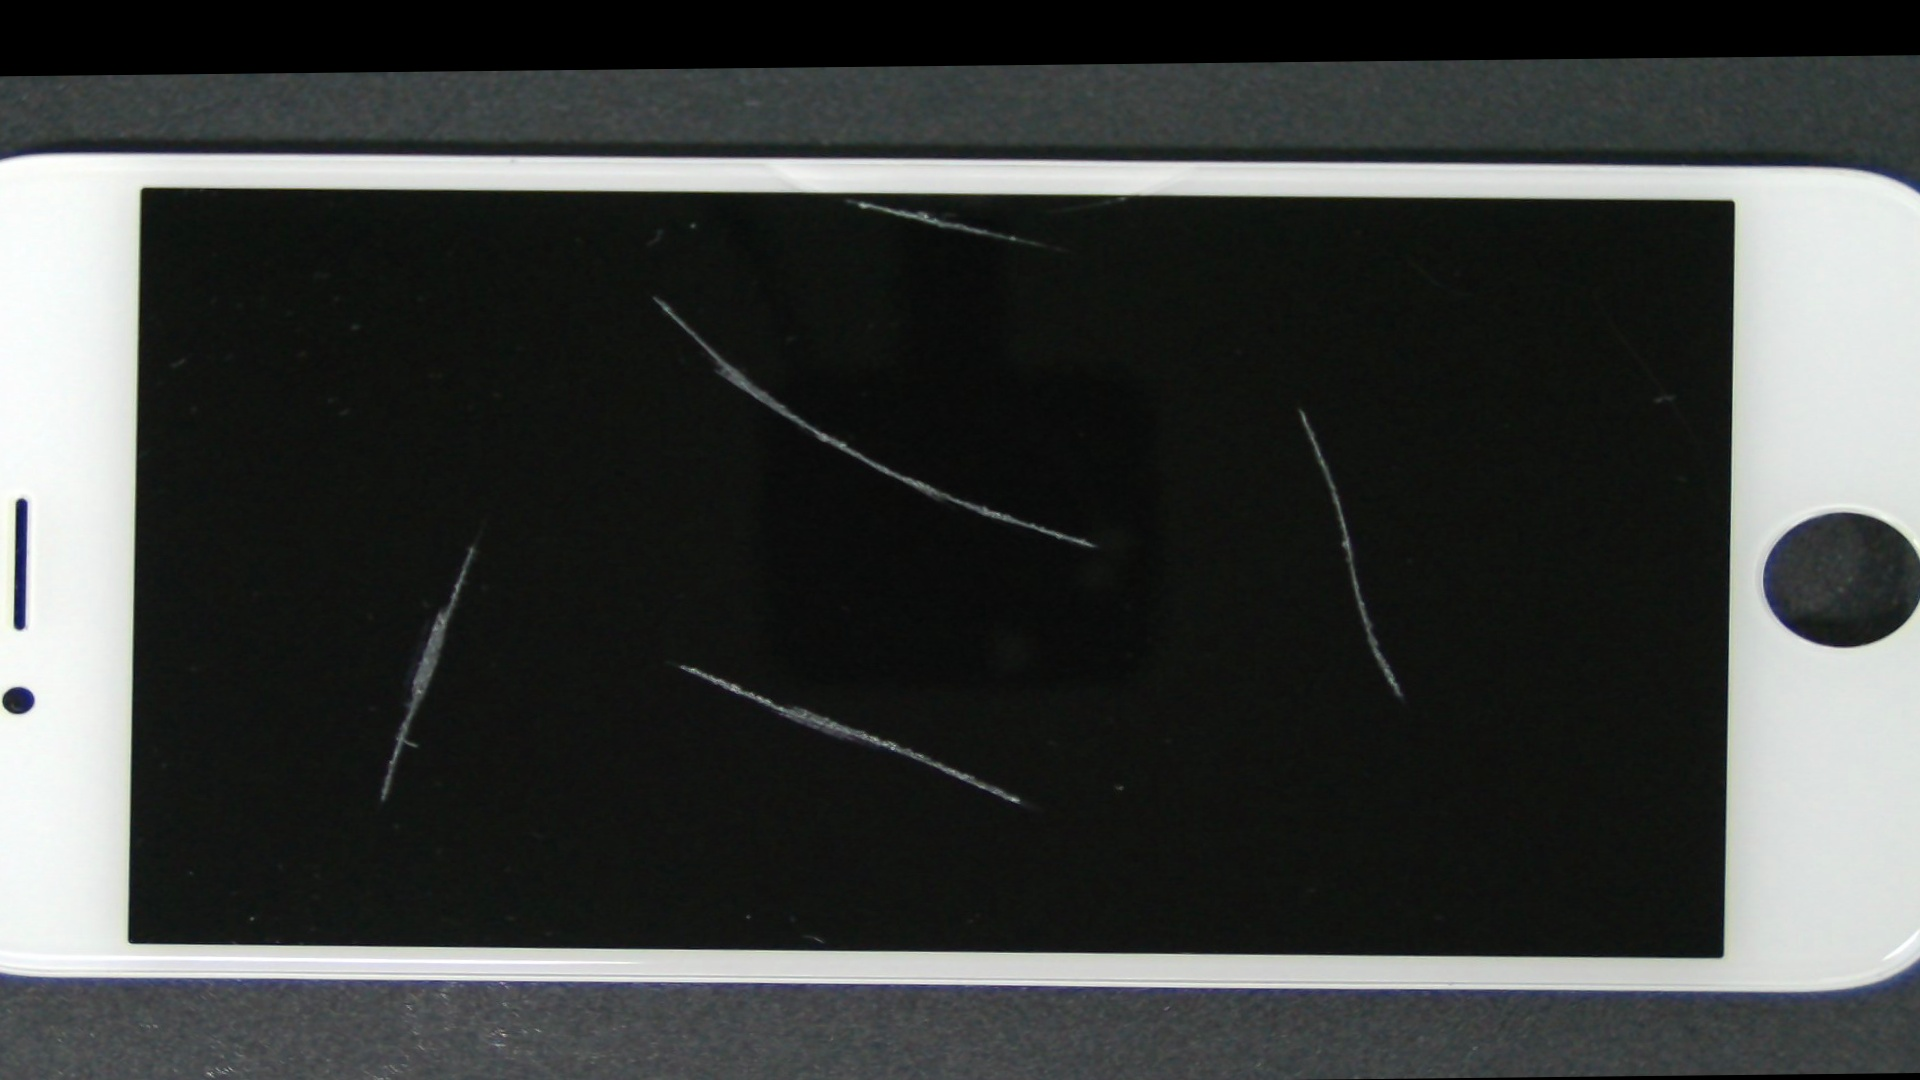oil: (264, 361, 1095, 965), (574, 227, 1920, 589), (161, 305, 783, 786), (251, 177, 1054, 415), (348, 127, 1346, 269)
